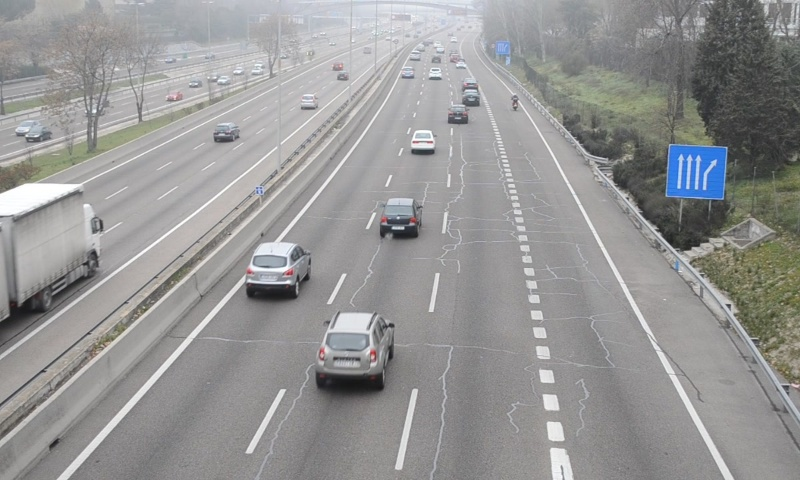car: (315, 313, 395, 378), (246, 242, 312, 287), (381, 198, 422, 234), (410, 129, 435, 151), (447, 104, 468, 124), (462, 89, 482, 105), (463, 77, 480, 91)
motorcycle: (511, 94, 520, 112)
